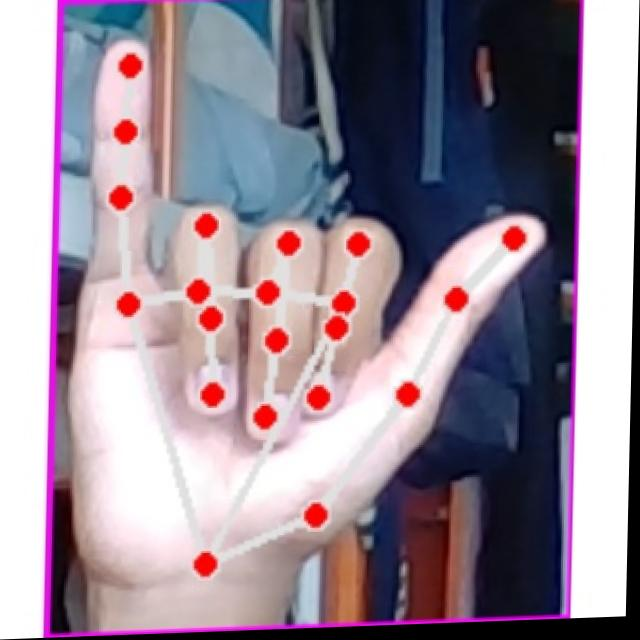Y: (76, 15, 557, 613)
